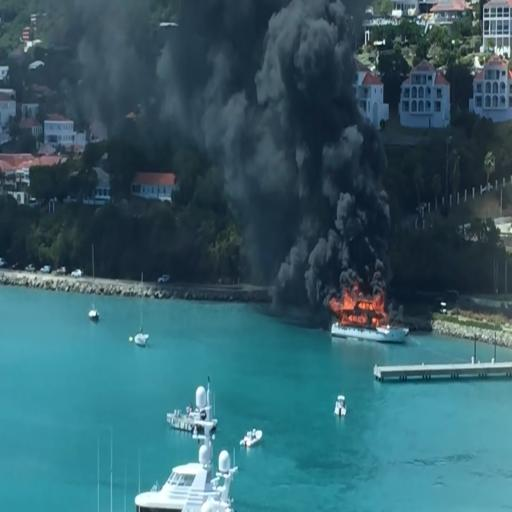fire: (338, 286, 386, 327)
smoke: (252, 4, 381, 270)
